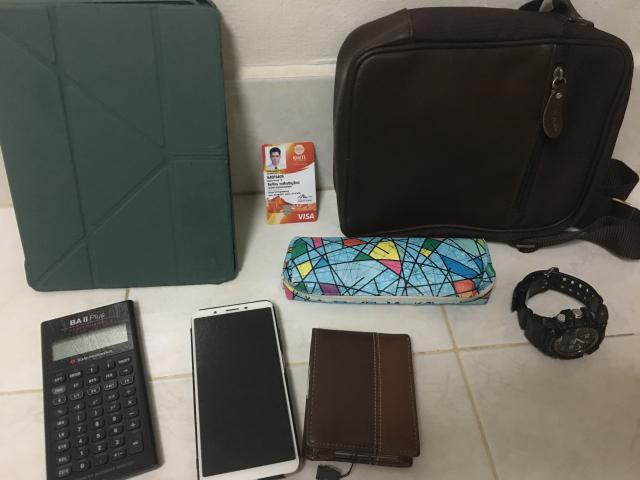Mobile phone: (191, 300, 300, 479)
Wallet: (302, 329, 420, 468)
Watch: (511, 268, 609, 359)
